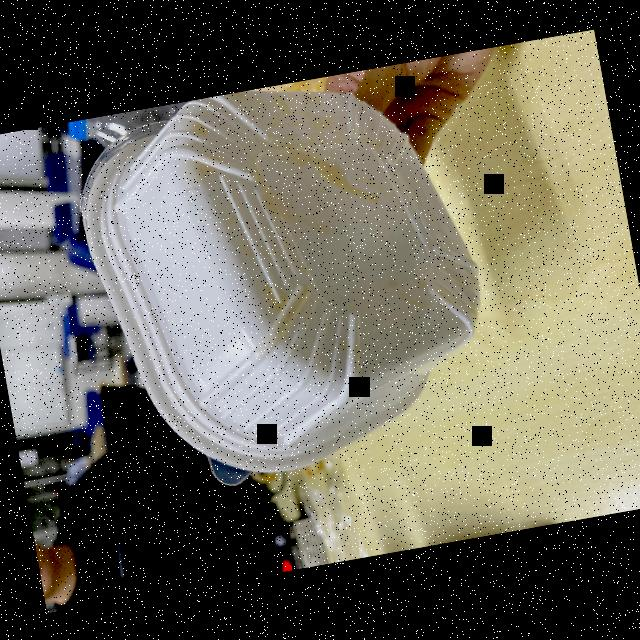plastic_box: (68, 57, 514, 510)
